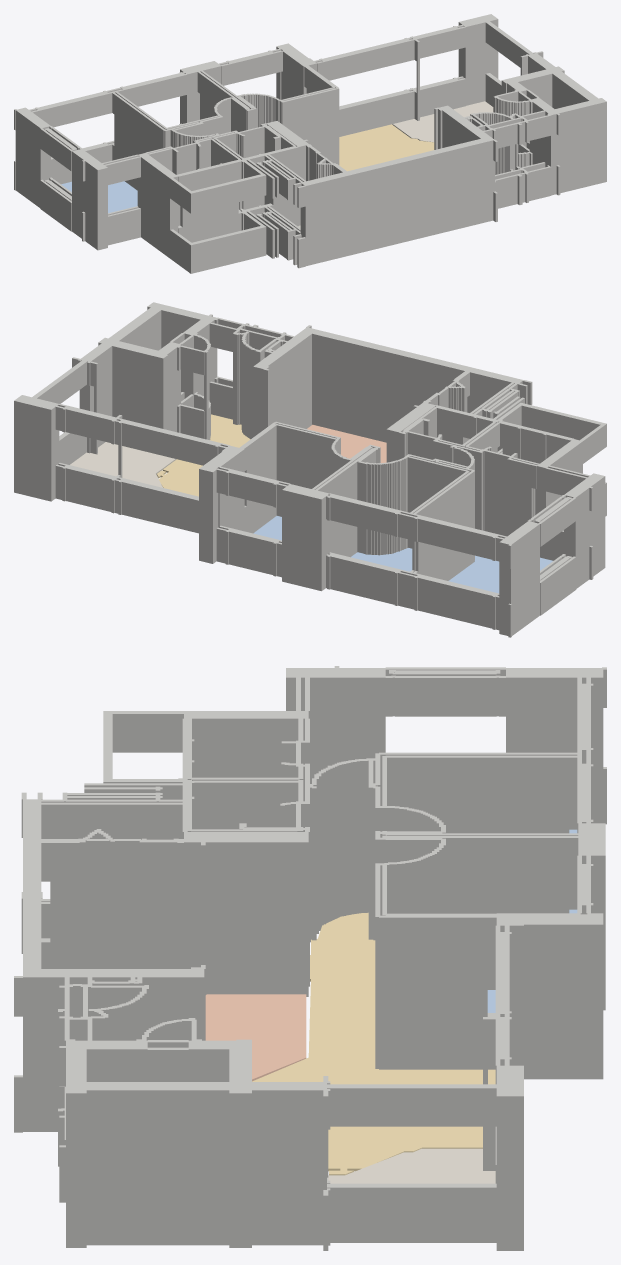
The picture shows the model from 3 angles, top to bottom: view 1: azimuth 30°, elevation 25°; view 2: azimuth 150°, elevation 25°; view 3: azimuth 270°, elevation 25°; orthographic projection. The views are drawn at different scales.
Visible parts, largest first — view 1: walls, room:living:10, room:other:3, room:bedroom:0; view 2: walls, room:other:3, room:living:10, room:bedroom:0, room:kitchen:7, room:bedroom:1; view 3: walls, room:living:10, room:kitchen:7, room:other:3.
Boxes of the visible parts, x1,y1,x2,y2 form: walls: (14,14,606,273); room:living:10: (339,124,434,171); room:other:3: (392,101,493,142); room:bedroom:0: (61,181,137,213); walls: (14,302,606,637); room:other:3: (70,442,176,487); room:living:10: (156,414,250,496); room:bedroom:0: (448,555,552,593); room:kitchen:7: (307,424,386,463); room:bedroom:1: (351,548,412,571); walls: (14,666,606,1250); room:living:10: (252,912,495,1175); room:kitchen:7: (205,994,306,1081); room:other:3: (328,1148,495,1183).
Bounding box in the file's own units: 16.7 × 2.8 × 9.73.
